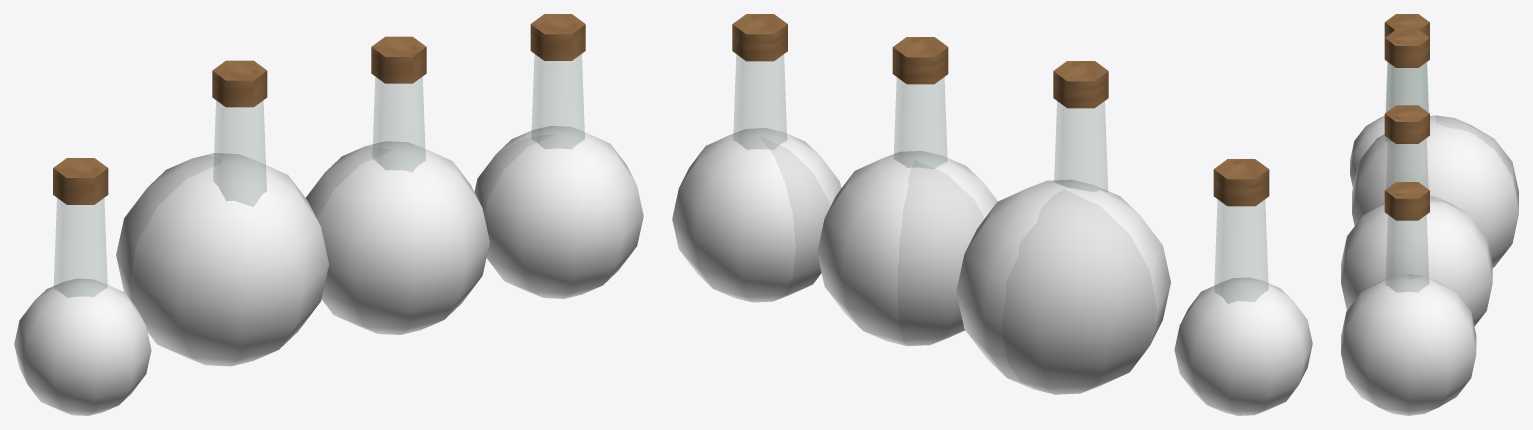
File: potions.glb
The picture shows the model from 3 angles, left to right: view 1: azimuth 30°, elevation 25°; view 2: azimuth 150°, elevation 25°; view 3: azimuth 270°, elevation 25°; orthographic projection. The views are drawn at different scales.
Parts seen in each view (by area): view 1: dyn_color_tint, potions; view 2: dyn_color_tint, potions; view 3: dyn_color_tint, potions.
Part boxes in pixels (left/top/right/bottom): dyn_color_tint: left=14, top=126, right=643, bottom=415; potions: left=53, top=14, right=585, bottom=297; dyn_color_tint: left=672, top=128, right=1312, bottom=415; potions: left=732, top=14, right=1269, bottom=303; dyn_color_tint: left=1341, top=115, right=1518, bottom=415; potions: left=1384, top=14, right=1429, bottom=292.
Bounding box in the file's own units: 0.3592 × 0.1675 × 0.1104.
Materials: 3 (2 with a texture image).
